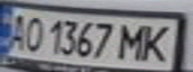1: (42, 16, 63, 55)
3: (57, 17, 78, 56)
6: (75, 18, 96, 58)
7: (90, 19, 118, 60)
A: (0, 10, 33, 52)
K: (136, 21, 178, 63)
M: (115, 20, 151, 62)
O: (18, 14, 48, 53)
